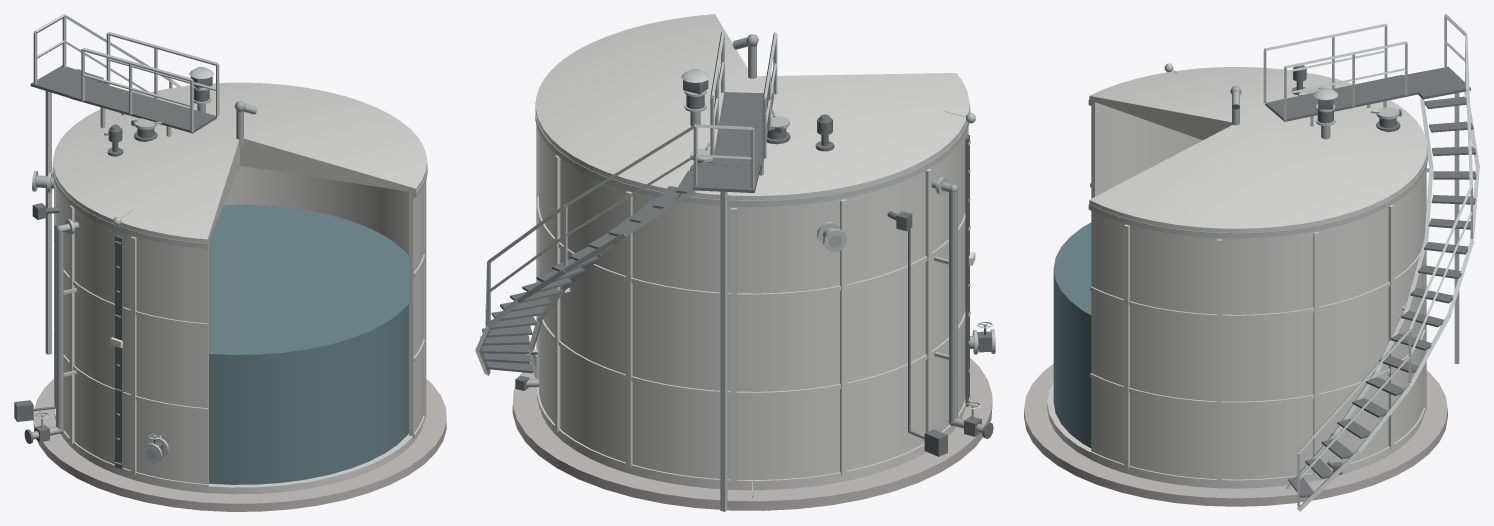
Rendered from tank.glb.
3 views of the same model, side by side, from view 1: azimuth 30°, elevation 25°; view 2: azimuth 150°, elevation 25°; view 3: azimuth 270°, elevation 25° (orthographic). The views are drawn at different scales.
Parts seen in each view (by area): view 1: KIT_tank, KIT_LEVEL, KIT_concrete, KIT_detail_steel_dark, KIT_detail_steel, KIT_detail_pipe, KIT_steel, KIT_pipe; view 2: KIT_tank, KIT_detail_steel_dark, KIT_concrete, KIT_detail_steel, KIT_steel, KIT_detail_pipe, KIT_pipe; view 3: KIT_tank, KIT_detail_steel, KIT_concrete, KIT_detail_steel_dark, KIT_LEVEL, KIT_steel.
Boxes of the visible parts, x1,y1,x2,y2 form: KIT_tank: (53,82,427,494); KIT_LEVEL: (209,204,408,484); KIT_concrete: (33,379,446,511); KIT_detail_steel_dark: (14,65,216,469); KIT_detail_steel: (32,14,219,464); KIT_detail_pipe: (32,104,205,459); KIT_steel: (52,158,427,248); KIT_pipe: (35,101,257,188); KIT_tank: (535,14,969,490); KIT_detail_steel_dark: (480,80,993,456); KIT_concrete: (512,358,992,510); KIT_detail_steel: (475,31,995,511); KIT_steel: (535,102,970,206); KIT_detail_pipe: (526,112,984,433); KIT_pipe: (732,34,842,247); KIT_tank: (1047,67,1427,488); KIT_detail_steel: (1164,14,1479,511); KIT_concrete: (1024,364,1447,506); KIT_detail_steel_dark: (1265,66,1476,497); KIT_LEVEL: (1053,222,1091,448); KIT_steel: (1088,100,1427,238).
Size of the model in its own units: 8.31 by 6.69 by 7.85.
